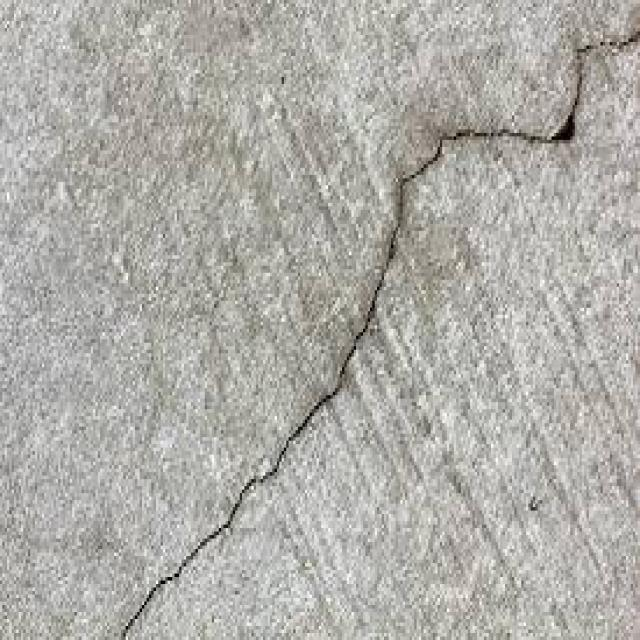Crack: (118, 31, 606, 612)
